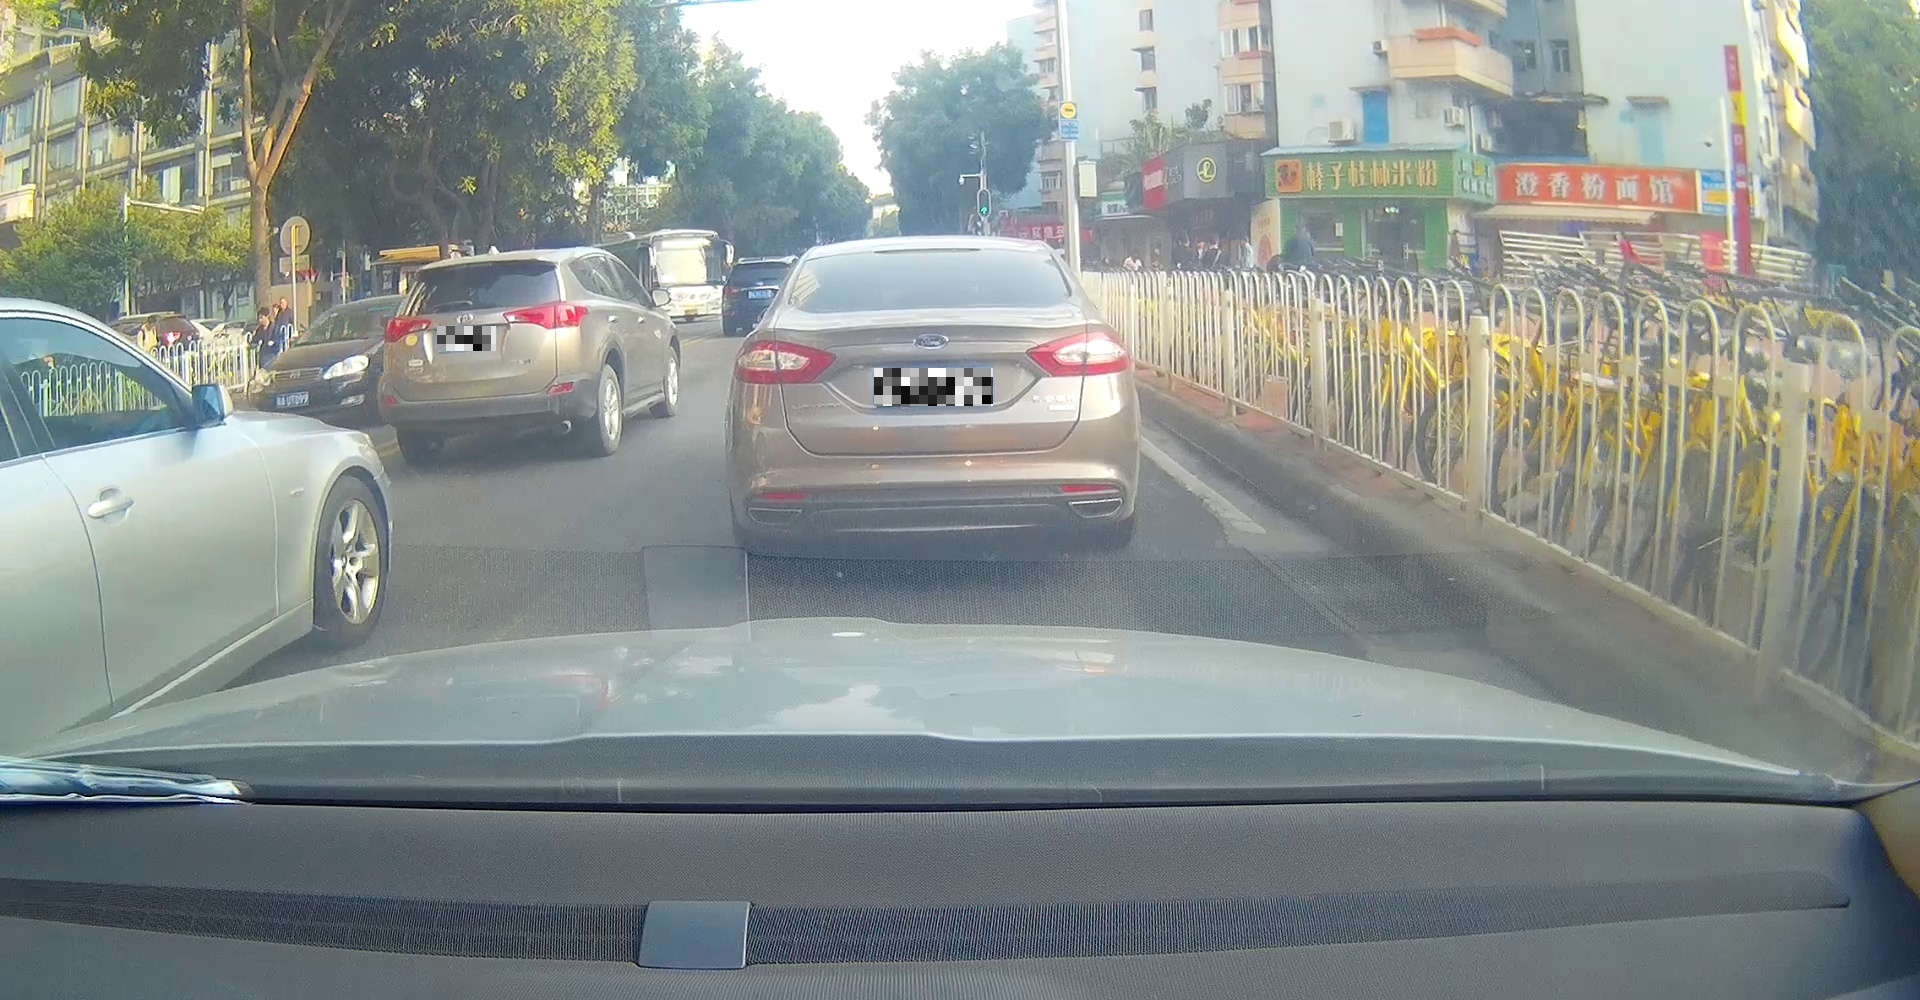L_light: (731, 339, 837, 385), (383, 316, 430, 341)
R_light: (1025, 330, 1131, 376), (502, 301, 587, 330)
T_light: (899, 253, 954, 261), (463, 266, 494, 273)
day-no: (724, 234, 1137, 571), (377, 251, 590, 464)
plate_1: (437, 326, 497, 352)
plate_2: (874, 368, 993, 406)
